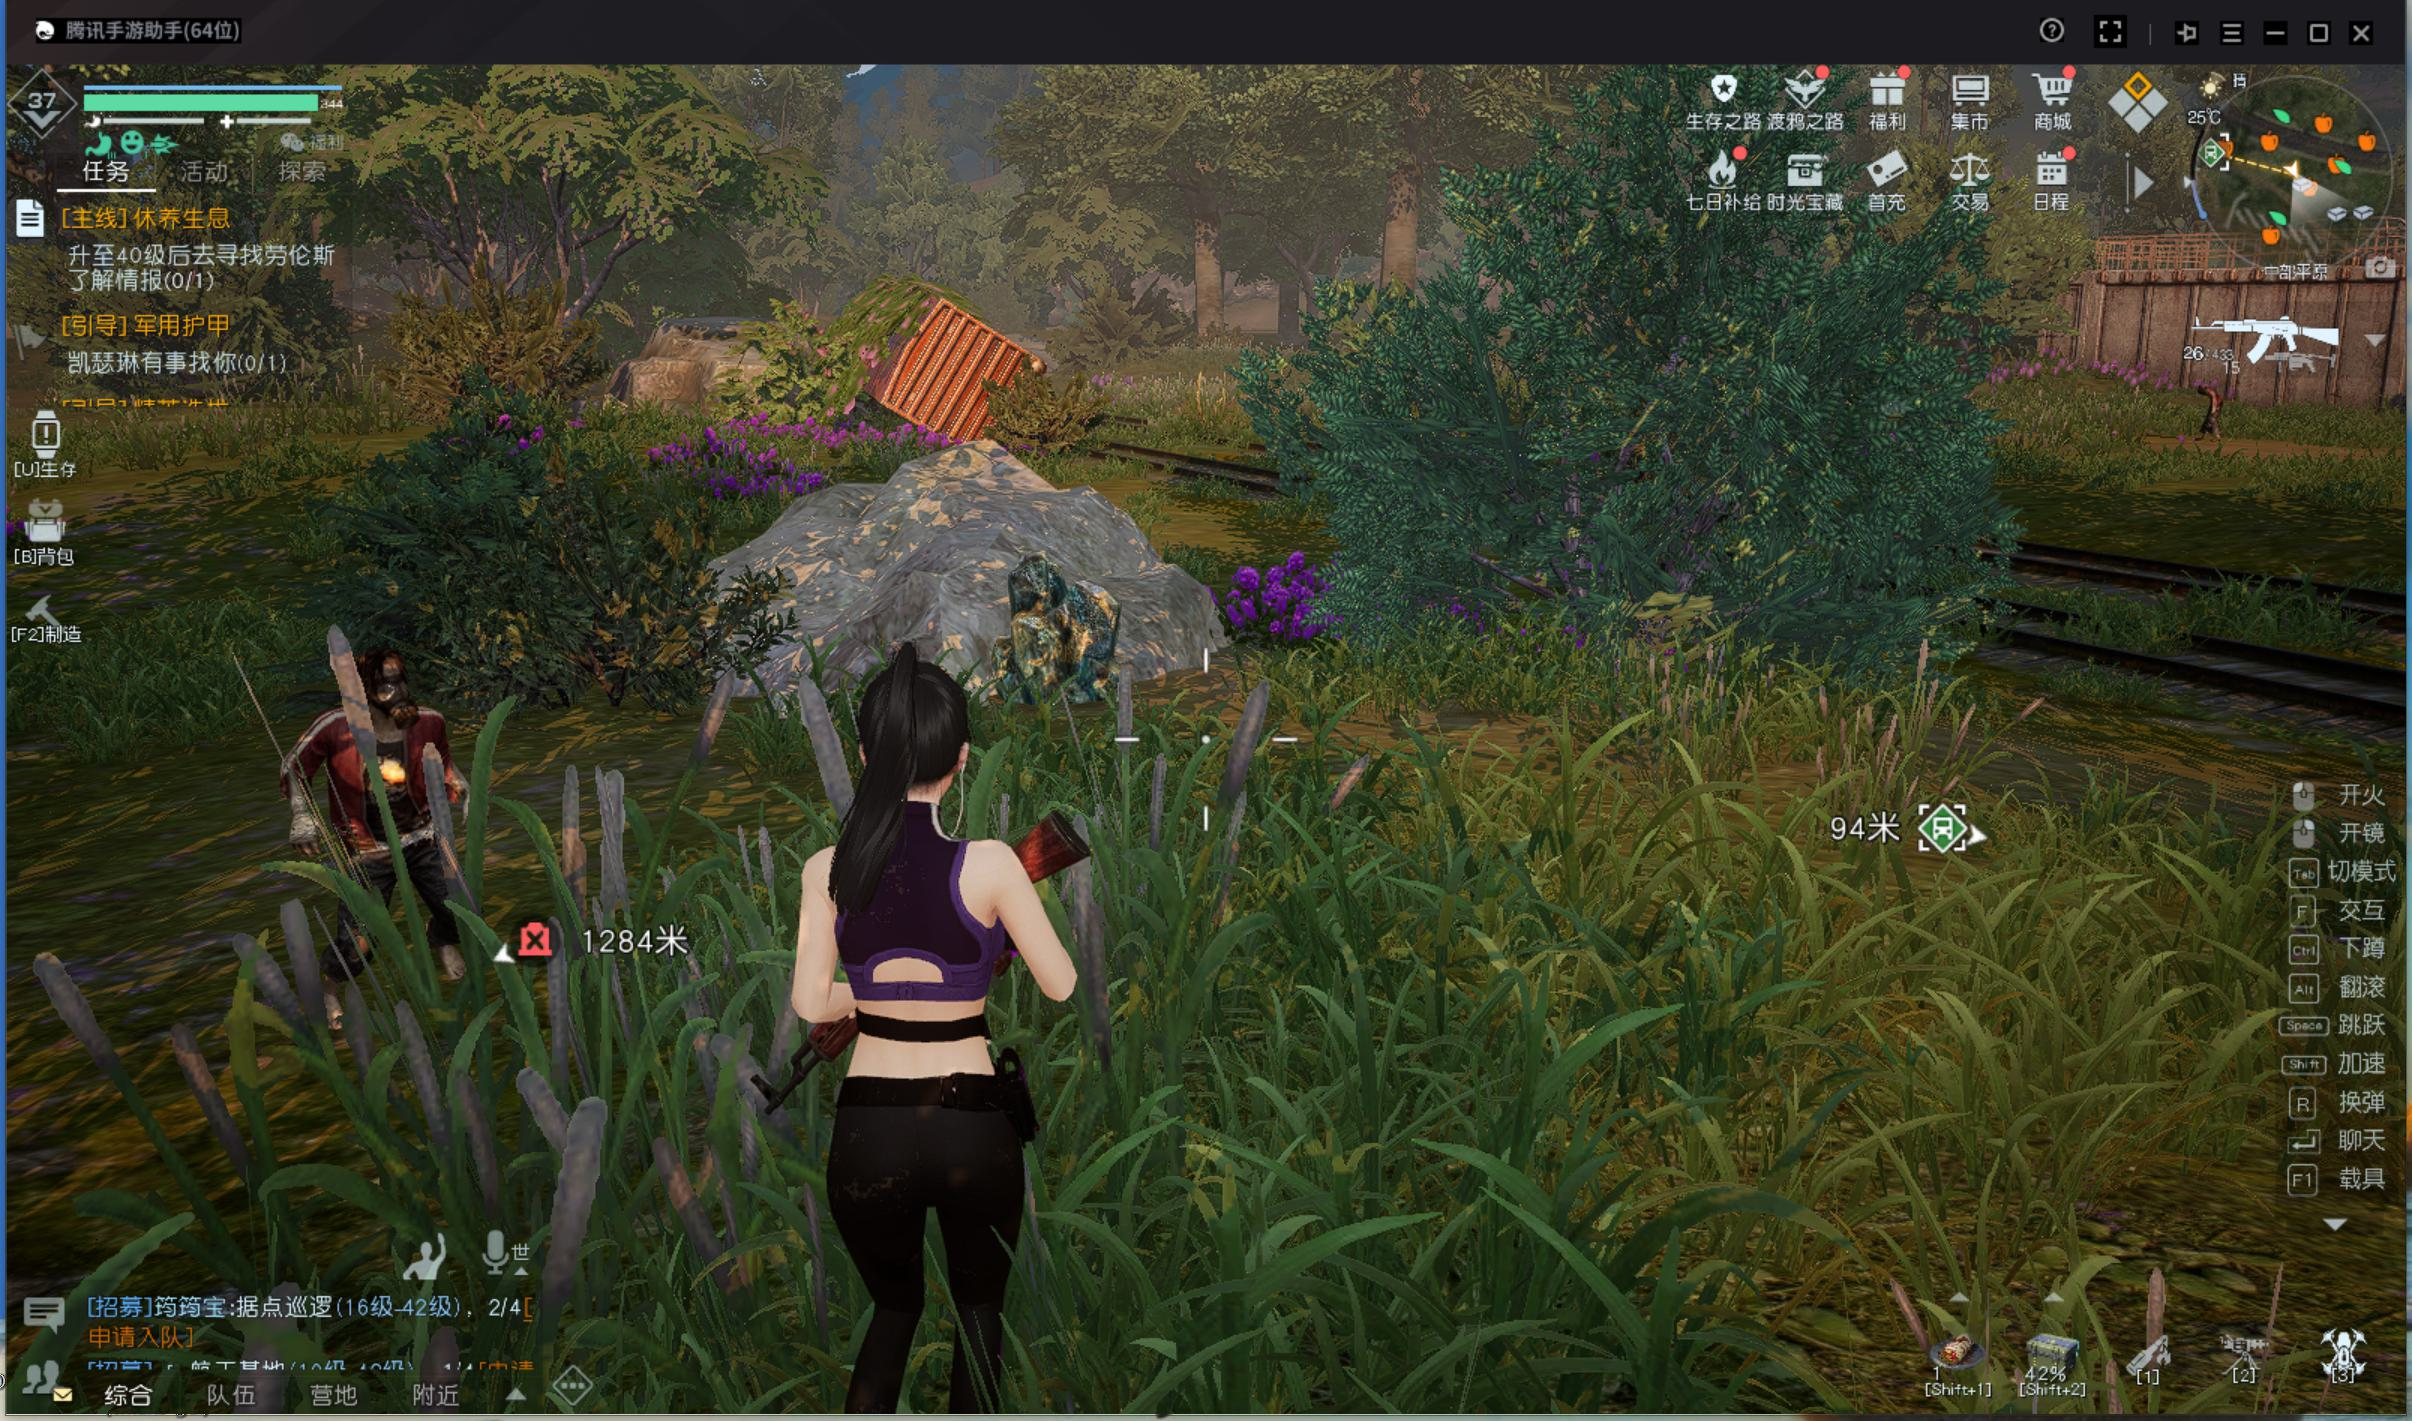stone: (962, 543, 1135, 717)
tree: (1373, 174, 1428, 398), (1176, 189, 1243, 359)
